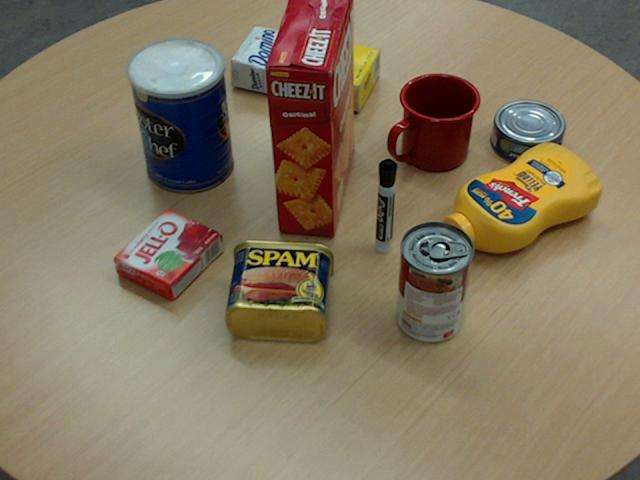cracker_box: (264, 0, 356, 236)
gelatin_box: (113, 207, 222, 299)
large_marker: (376, 159, 396, 253)
master_chef_can: (127, 37, 232, 193)
mug: (388, 72, 480, 171)
mustard_bottle: (433, 142, 600, 253)
potted_meat_can: (224, 239, 333, 341)
sugar_box: (229, 25, 380, 111)
tomato_soup_can: (396, 220, 473, 342)
tuna_fish_can: (489, 100, 564, 164)
